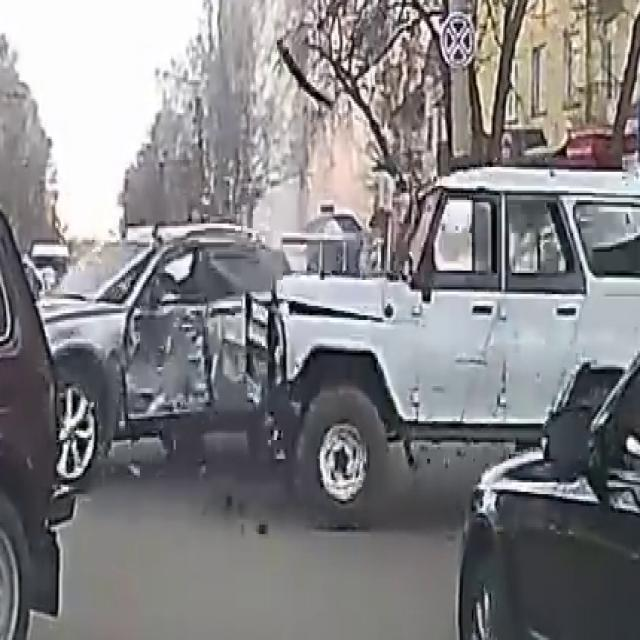accident: (91, 195, 449, 540)
